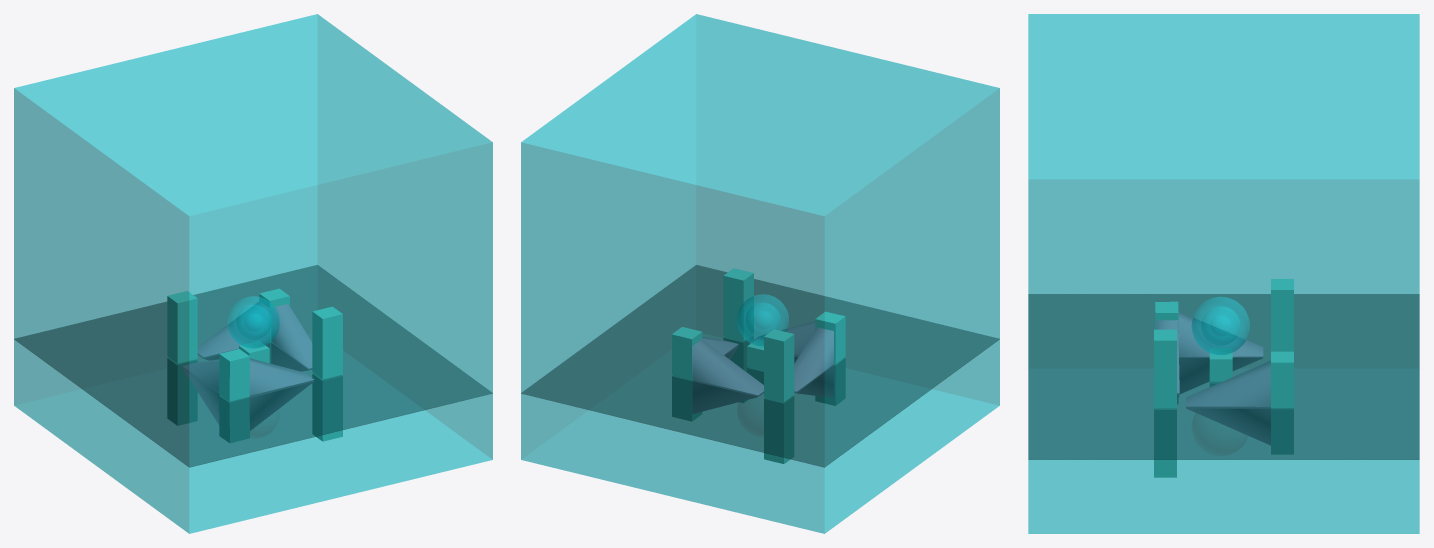
Rendered from stage_lightOFF2.fbx.
The picture shows the model from 3 angles, left to right: view 1: azimuth 30°, elevation 25°; view 2: azimuth 150°, elevation 25°; view 3: azimuth 270°, elevation 25°; orthographic projection. The views are drawn at different scales.
Visible parts, largest first — view 1: frame, floor, stage01:pasted__pCube22, stage01:pCube10, stage04:pasted__pasted__pasted__pSphere1, stage01:pCube3, stage01:pasted__pCube3, stage01:pasted__pCube1, stage03:pasted__pasted__pasted__pSphere1, stage01:pasted__pasted__pCube3; view 2: frame, floor, stage01:pCube10, stage01:pasted__pCube22, stage01:pCube3, stage04:pasted__pasted__pasted__pSphere1, stage01:pasted__pasted__pCube3, stage03:pasted__pasted__pasted__pSphere1, stage01:pasted__pCube1; view 3: frame, floor, stage01:pasted__pCube22, stage01:pCube10, stage04:pasted__pasted__pasted__pSphere1, stage01:pasted__pCube3, stage01:pasted__pasted__pCube3, stage03:pasted__pasted__pasted__pSphere1, stage01:pasted__pCube2.
Boxes of the visible parts, box(x1,y1,x2,y2) form: frame: box(14, 14, 492, 533); floor: box(14, 265, 492, 467); stage01:pasted__pCube22: box(167, 341, 342, 442); stage01:pCube10: box(167, 288, 342, 401); stage04:pasted__pasted__pasted__pSphere1: box(228, 296, 279, 348); stage01:pCube3: box(197, 301, 268, 356); stage01:pasted__pCube3: box(271, 304, 312, 368); stage01:pasted__pCube1: box(249, 358, 314, 395); stage03:pasted__pasted__pasted__pSphere1: box(236, 305, 270, 339); stage01:pasted__pasted__pCube3: box(182, 359, 219, 392); frame: box(521, 14, 999, 533); floor: box(521, 265, 999, 467); stage01:pCube10: box(672, 268, 845, 401); stage01:pasted__pCube22: box(672, 335, 845, 463); stage01:pCube3: box(692, 339, 763, 395); stage04:pasted__pasted__pasted__pSphere1: box(737, 294, 788, 345); stage01:pasted__pasted__pCube3: box(794, 327, 833, 391); stage03:pasted__pasted__pasted__pSphere1: box(746, 303, 780, 337); stage01:pasted__pCube1: box(749, 321, 815, 354); frame: box(1028, 14, 1419, 533); floor: box(1028, 294, 1419, 459); stage01:pasted__pCube22: box(1154, 357, 1293, 477); stage01:pCube10: box(1154, 279, 1293, 408); stage04:pasted__pasted__pasted__pSphere1: box(1192, 297, 1249, 354); stage01:pasted__pCube3: box(1186, 361, 1270, 406); stage01:pasted__pasted__pCube3: box(1178, 312, 1263, 356); stage03:pasted__pasted__pasted__pSphere1: box(1201, 306, 1240, 345); stage01:pasted__pCube2: box(1209, 348, 1232, 381).
Bounding box in the file's own units: 1000 × 1008 × 1000.
